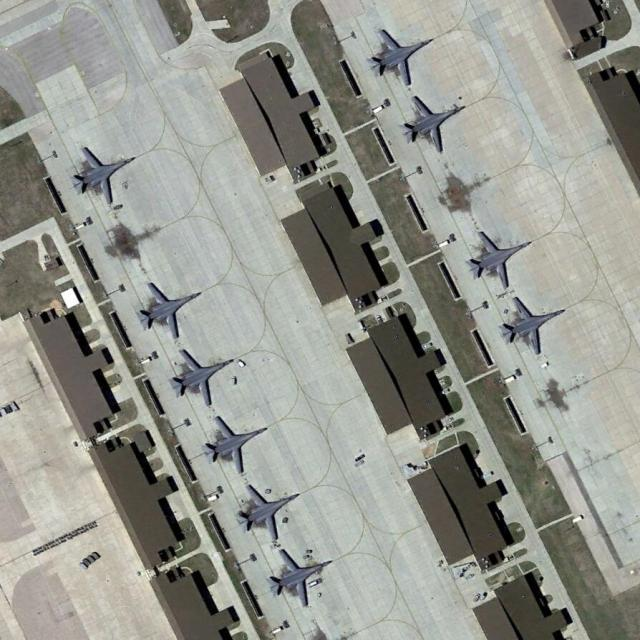fighter jet: (168, 348, 236, 407), (198, 417, 267, 473), (73, 146, 134, 208), (238, 486, 302, 545), (502, 293, 566, 351), (269, 551, 332, 609), (370, 28, 432, 82), (470, 232, 534, 284), (141, 282, 200, 338), (404, 98, 467, 146)
